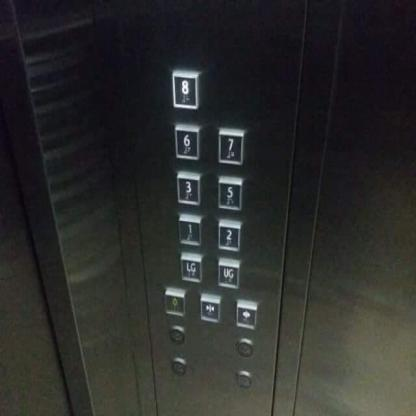1: (176, 212, 204, 247)
2: (216, 215, 241, 252)
3: (175, 168, 202, 206)
5: (216, 172, 244, 210)
6: (172, 120, 202, 162)
7: (216, 125, 247, 166)
8: (168, 69, 202, 110)
LG: (178, 250, 203, 284)
UG: (215, 254, 241, 291)
alarm: (162, 284, 187, 318)
close: (198, 289, 222, 326)
indicator: (234, 335, 255, 360), (166, 323, 186, 348), (234, 368, 254, 392), (169, 354, 188, 376)
open: (233, 296, 259, 331)
